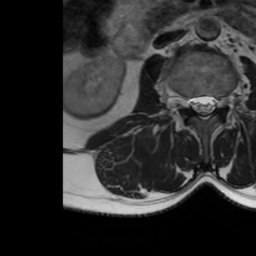CCS_normal: (199, 87, 207, 126)
LFS_stenosis: (216, 89, 225, 115)
LLS_normal: (207, 88, 216, 120)
RFS_normal: (181, 88, 191, 116)
RLS_normal: (191, 89, 199, 117)
